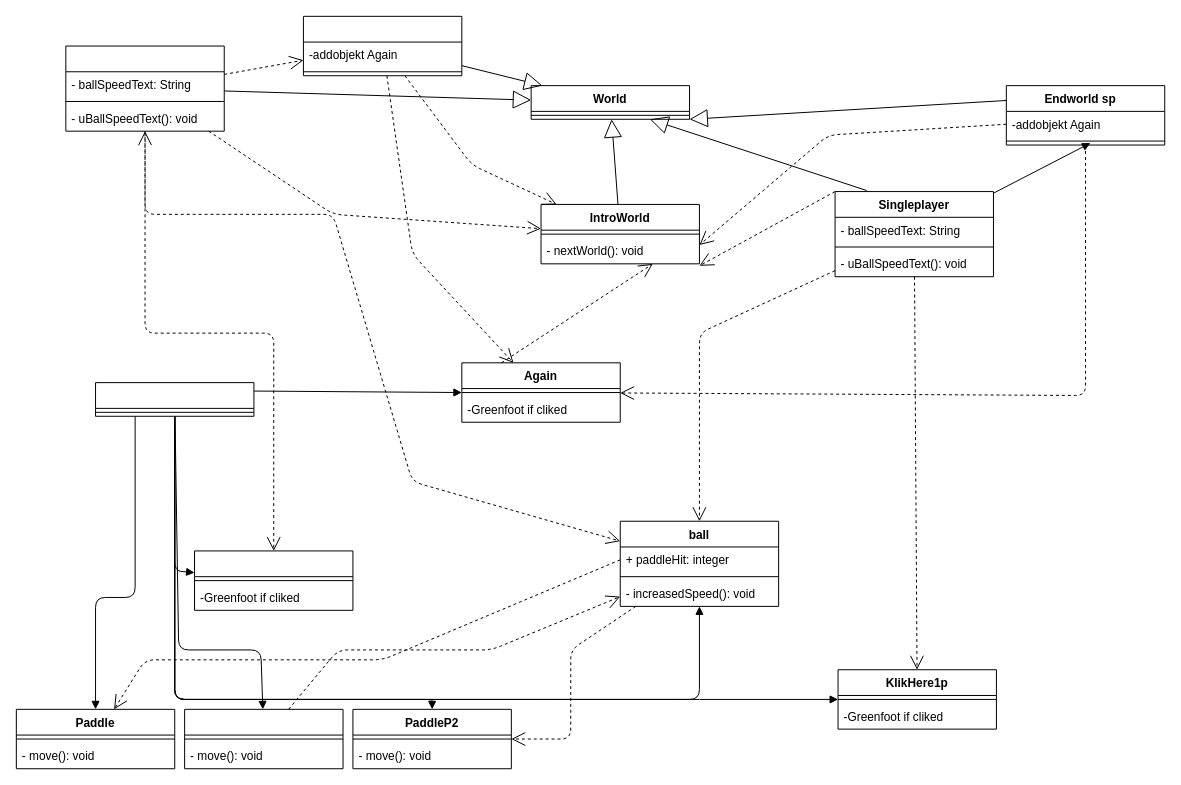
This 1181x785 diagram has some shape labels left out. Each missing label, with the box of its shape:
Actor: (95, 382, 254, 416)
Endworld mp: (302, 15, 462, 76)
KlikHere2p: (194, 550, 353, 610)
PaddleAI: (184, 708, 343, 769)
Pingworld: (65, 45, 224, 131)
